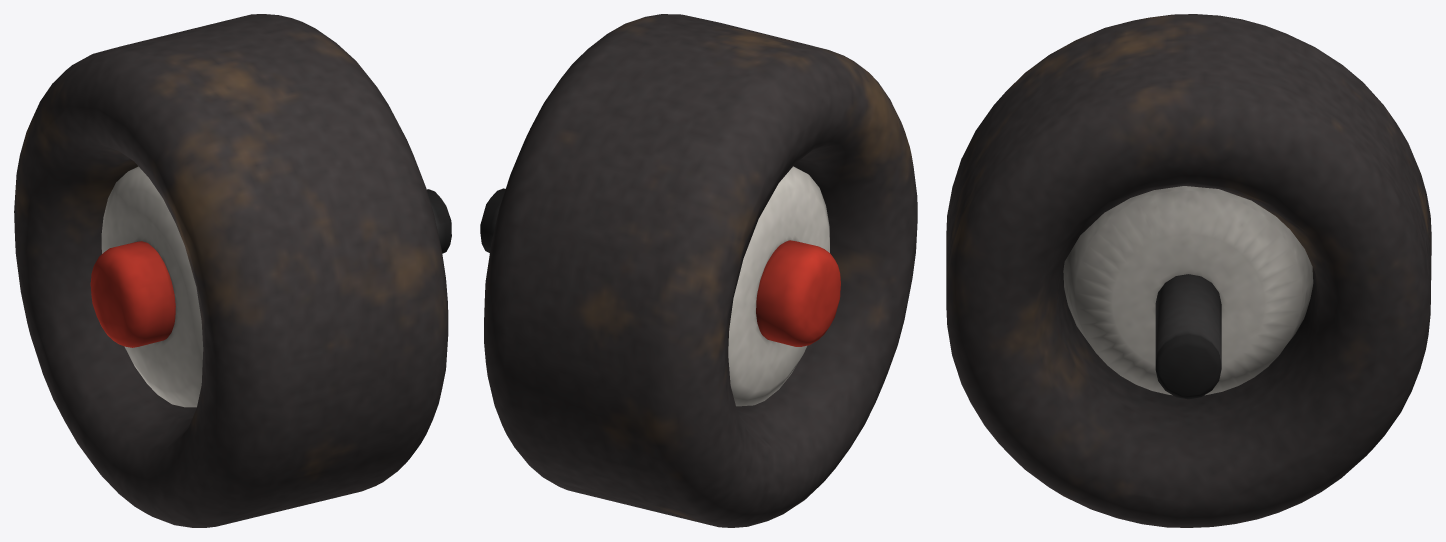
3 views of the same model, side by side, from view 1: azimuth 30°, elevation 25°; view 2: azimuth 150°, elevation 25°; view 3: azimuth 270°, elevation 25° (orthographic).
Parts seen in each view (by area): view 1: wheel_FR; view 2: wheel_FR; view 3: wheel_FR.
Part boxes in pixels (x1,y1,x2,y2): wheel_FR: [14, 14, 451, 527]; wheel_FR: [480, 14, 917, 527]; wheel_FR: [946, 14, 1431, 527].
Bounding box in the file's own units: 0.2008 × 0.2594 × 0.2594.
1 material, 1 textured.
